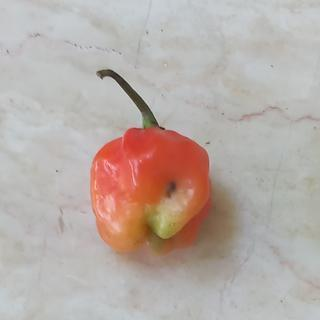Fly-bites: (162, 178, 180, 201)
